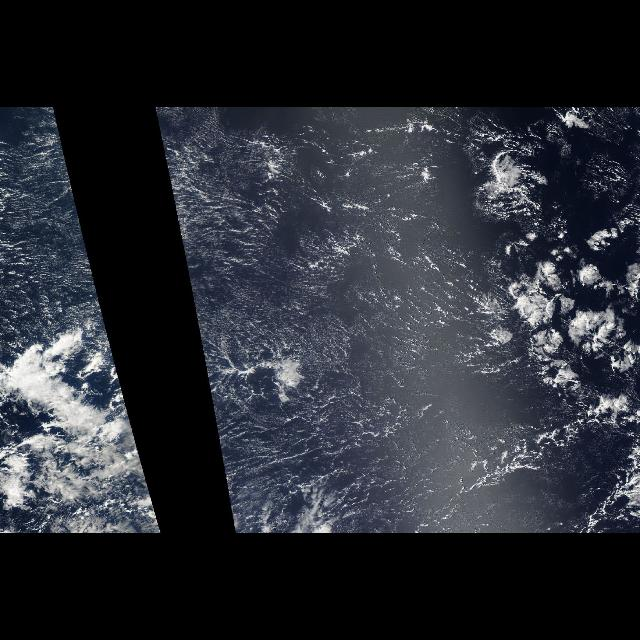Flower: (466, 134, 638, 428)
Sugar: (156, 119, 478, 534), (10, 118, 106, 320)
